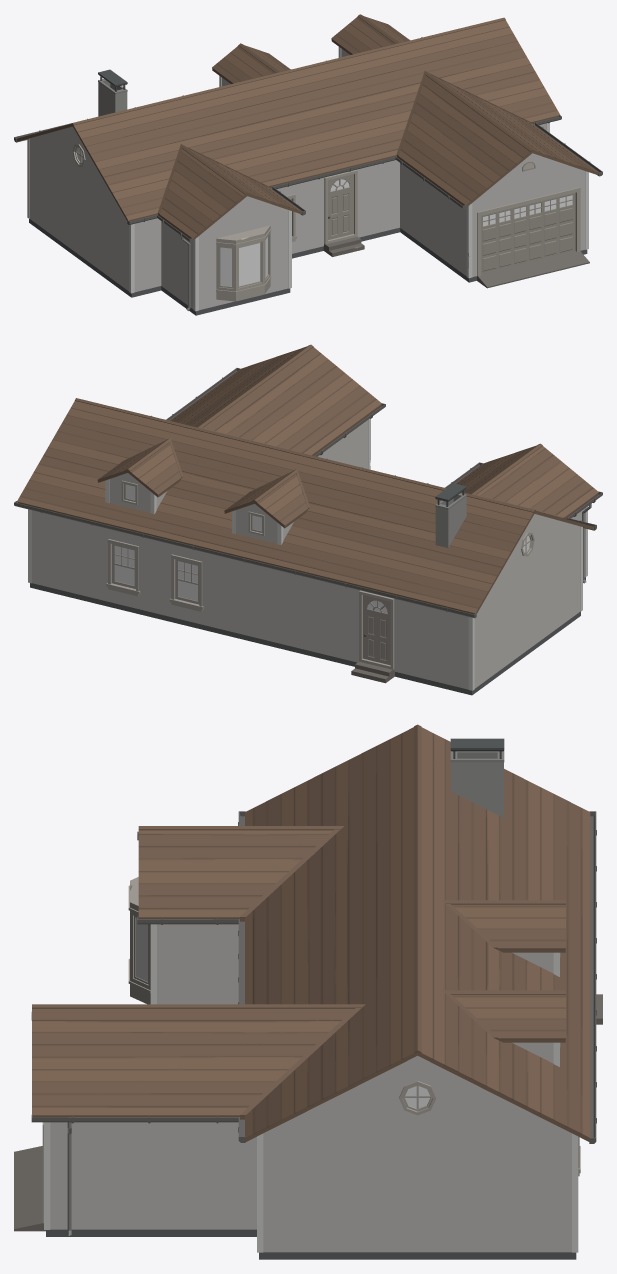
Rendered from SM_Bldg_Suburb_House_03.fbx.
3 renders of one model, top to bottom at view 1: azimuth 30°, elevation 25°; view 2: azimuth 150°, elevation 25°; view 3: azimuth 270°, elevation 25°, orthographic. The views are drawn at different scales.
Parts seen in each view (by area): view 1: SM_Bldg_Suburb_House_03, SM_Bldg_Suburb_House_03_Glass; view 2: SM_Bldg_Suburb_House_03, SM_Bldg_Suburb_House_03_Glass; view 3: SM_Bldg_Suburb_House_03, SM_Bldg_Suburb_House_03_Glass.
Boxes of the visible parts, bbox=[...] form: SM_Bldg_Suburb_House_03: bbox=[14, 14, 602, 315]; SM_Bldg_Suburb_House_03_Glass: bbox=[76, 147, 267, 286]; SM_Bldg_Suburb_House_03: bbox=[14, 344, 602, 695]; SM_Bldg_Suburb_House_03_Glass: bbox=[115, 484, 530, 601]; SM_Bldg_Suburb_House_03: bbox=[14, 724, 602, 1259]; SM_Bldg_Suburb_House_03_Glass: bbox=[136, 918, 430, 1108].
Size of the model in its own units: 1816 by 624 by 1382.
